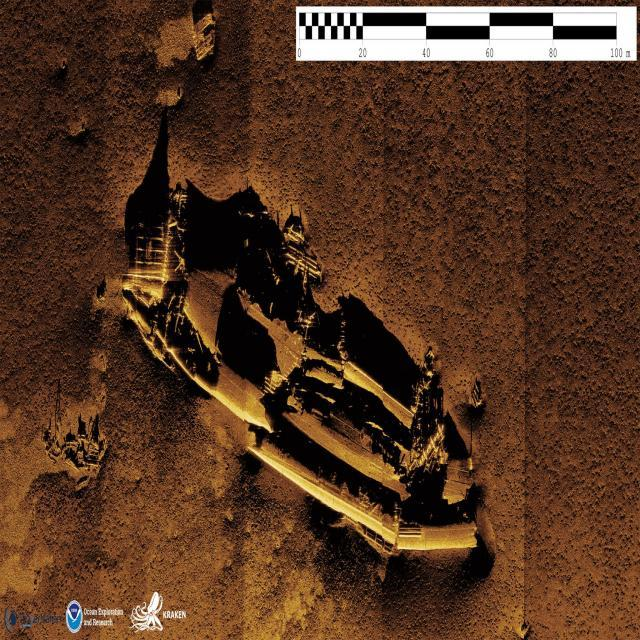shipwreck: (112, 183, 480, 558)
